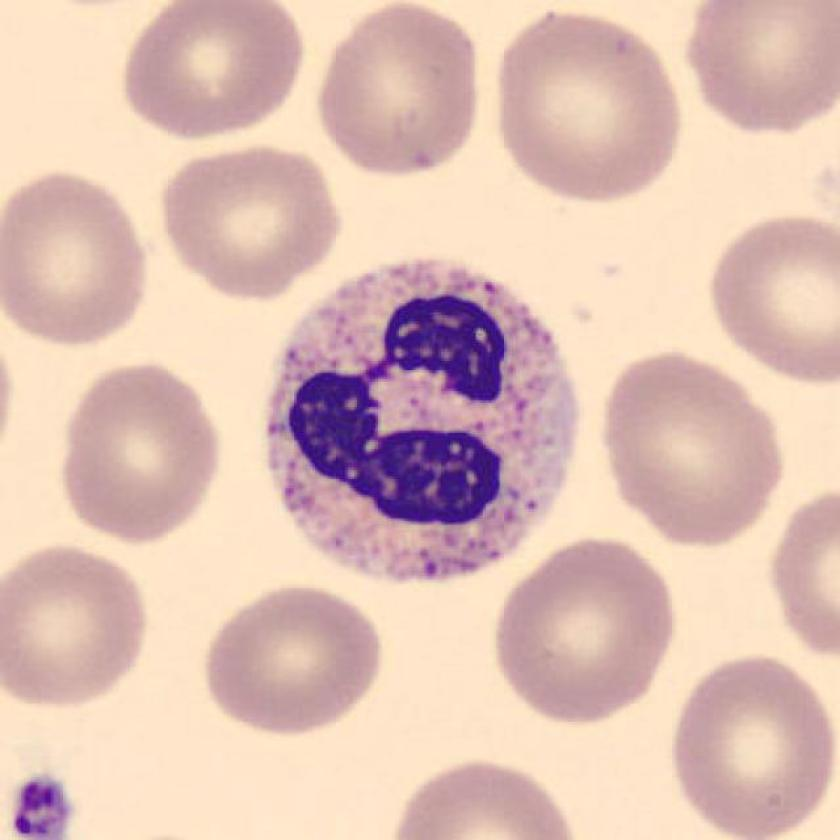neutrophil: (269, 258, 575, 584)
